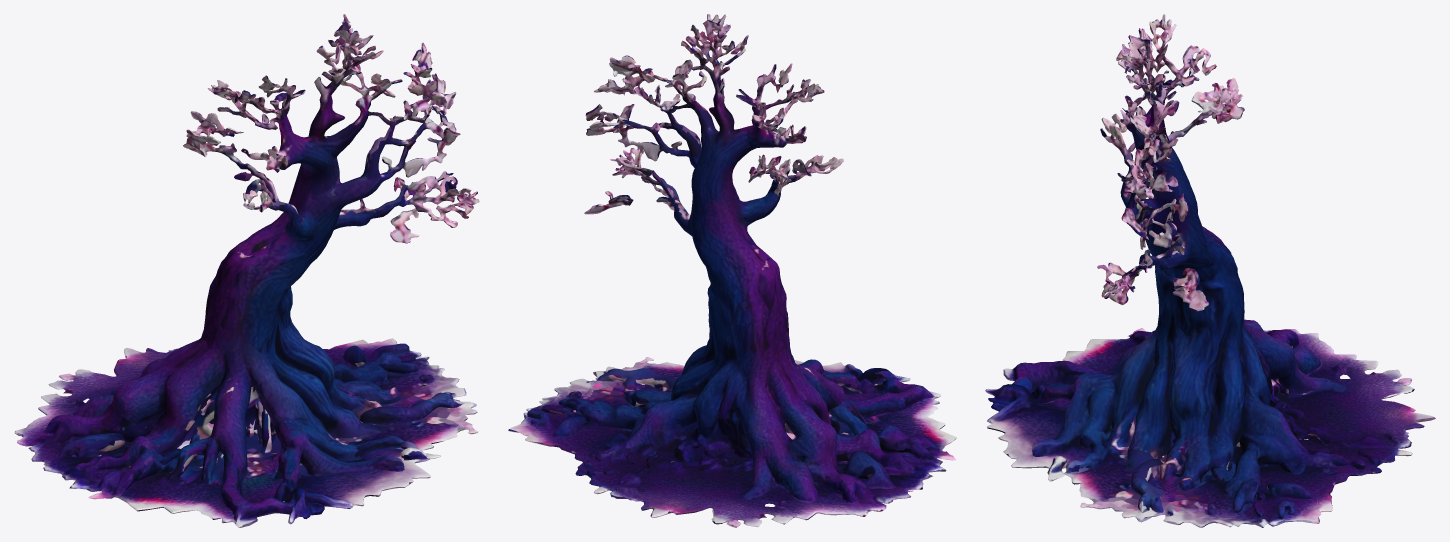
File: sea-root-west-generated-2026-05-17T19-37-48-870Z.high.glb
3 renders of one model, left to right at view 1: azimuth 30°, elevation 25°; view 2: azimuth 150°, elevation 25°; view 3: azimuth 270°, elevation 25°, orthographic. The views are drawn at different scales.
Visible parts, largest first — view 1: temp_mesh.ply; view 2: temp_mesh.ply; view 3: temp_mesh.ply.
Boxes of the visible parts, x1=… form: temp_mesh.ply: x1=14, y1=14, x2=479, y2=527; temp_mesh.ply: x1=508, y1=14, x2=956, y2=527; temp_mesh.ply: x1=985, y1=14, x2=1435, y2=527.
Size of the model in its own units: 1.97 by 1.92 by 1.87.
Materials: 1 (1 with a texture image).
